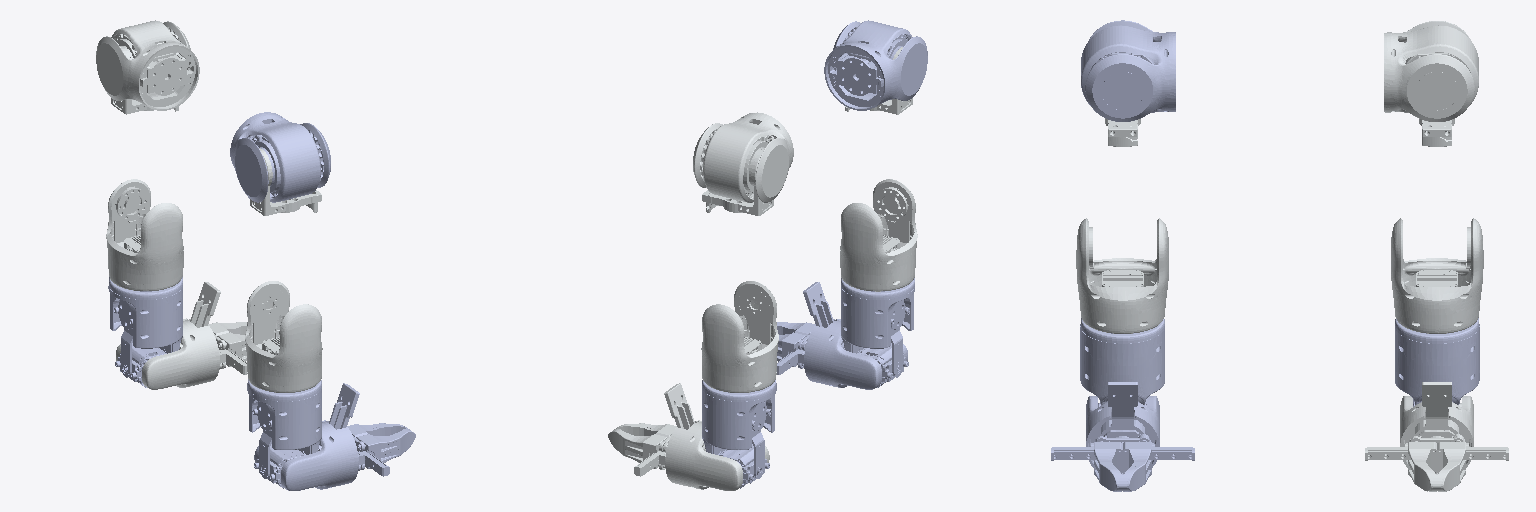
The robot description file, URDF, robot "T701-HT":
<?xml version='1.0' encoding='utf-8'?>
<robot name="T701-HT">
  <mujoco>
    <compiler meshdir="../meshes/" balanceinertia="true" discardvisual="false" />
  </mujoco>
  <link name="base_link">
    <inertial>
      <origin xyz="0.00097591 1.609e-05 0.30789235" rpy="0 0 0" />
      <mass value="12.79366946" />
      <inertia ixx="0.53730741" ixy="-1.878e-05" ixz="-0.0023791" iyy="0.51882313" iyz="-3.292e-05" izz="0.07504232" />
    </inertial>
    <visual>
      <origin xyz="0 0 0" rpy="0 0 0" />
      <geometry>
        <mesh filename="package://t701_ht_description/meshes/base_link.STL" />
      </geometry>
      <material name="">
        <color rgba="0.898039215686275 0.917647058823529 0.929411764705882 1" />
      </material>
    </visual>
    <collision>
      <origin xyz="0 0 0" rpy="0 0 0" />
      <geometry>
        <mesh filename="package://t701_ht_description/meshes/base_link.STL" />
      </geometry>
    </collision>
  </link>
  <link name="l_joint1_link">
    <inertial>
      <origin xyz="-0.00713338 0.05355602 1.817e-05" rpy="0 0 0" />
      <mass value="1.15977606" />
      <inertia ixx="0.00150353" ixy="3.119e-05" ixz="1e-07" iyy="0.00124269" iyz="-1.67e-06" izz="0.00147625" />
    </inertial>
    <visual>
      <origin xyz="0 0 0" rpy="0 0 0" />
      <geometry>
        <mesh filename="package://t701_ht_description/meshes/l_joint1_link.STL" />
      </geometry>
      <material name="">
        <color rgba="0.898039215686275 0.917647058823529 0.929411764705882 1" />
      </material>
    </visual>
    <collision>
      <origin xyz="0 0 0" rpy="0 0 0" />
      <geometry>
        <mesh filename="package://t701_ht_description/meshes/l_joint1_link.STL" />
      </geometry>
    </collision>
  </link>
  <joint name="A_l_joint1_link" type="revolute">
    <origin xyz="0 0.126 0.513" rpy="0 0 0" />
    <parent link="base_link" />
    <child link="l_joint1_link" />
    <axis xyz="0 1 0" />
    <limit lower="-3.0543" upper="1.6581" effort="70" velocity="60" />
  </joint>
  <link name="l_joint2_link">
    <inertial>
      <origin xyz="-0.01934445 -1.746e-05 -0.04177167" rpy="0 0 0" />
      <mass value="0.15403929" />
      <inertia ixx="0.00010685" ixy="1.6e-07" ixz="4.47e-05" iyy="0.00017847" iyz="-9e-08" izz="0.000127" />
    </inertial>
    <visual>
      <origin xyz="0 0 0" rpy="0 0 0" />
      <geometry>
        <mesh filename="package://t701_ht_description/meshes/l_joint2_link.STL" />
      </geometry>
      <material name="">
        <color rgba="0.898039215686275 0.917647058823529 0.929411764705882 1" />
      </material>
    </visual>
    <collision>
      <origin xyz="0 0 0" rpy="0 0 0" />
      <geometry>
        <mesh filename="package://t701_ht_description/meshes/l_joint2_link.STL" />
      </geometry>
    </collision>
  </link>
  <joint name="A_l_joint2_link" type="revolute">
    <origin xyz="0 0.059 0" rpy="0 0 0" />
    <parent link="l_joint1_link" />
    <child link="l_joint2_link" />
    <axis xyz="1 0 0" />
    <limit lower="-0.2793" upper="3.4208" effort="70" velocity="60" />
  </joint>
  <link name="l_joint3_link">
    <inertial>
      <origin xyz="-0.00114099 0.00138093 -0.09427347" rpy="0 0 0" />
      <mass value="1.59167035" />
      <inertia ixx="0.00811836" ixy="-8.9e-07" ixz="8.82e-06" iyy="0.00796295" iyz="0.00012311" izz="0.00150574" />
    </inertial>
    <visual>
      <origin xyz="0 0 0" rpy="0 0 0" />
      <geometry>
        <mesh filename="package://t701_ht_description/meshes/l_joint3_link.STL" />
      </geometry>
      <material name="">
        <color rgba="0.792156862745098 0.819607843137255 0.933333333333333 1" />
      </material>
    </visual>
    <collision>
      <origin xyz="0 0 0" rpy="0 0 0" />
      <geometry>
        <mesh filename="package://t701_ht_description/meshes/l_joint3_link.STL" />
      </geometry>
    </collision>
  </link>
  <joint name="A_l_joint3_link" type="revolute">
    <origin xyz="0.00075 0 -0.0649" rpy="0 0 0" />
    <parent link="l_joint2_link" />
    <child link="l_joint3_link" />
    <axis xyz="0 0 1" />
    <limit lower="-1.5708" upper="1.5708" effort="45" velocity="78" />
  </joint>
  <link name="l_joint4_link">
    <inertial>
      <origin xyz="-0.00065026 0.00101787 -0.05992116" rpy="0 0 0" />
      <mass value="0.59443643" />
      <inertia ixx="0.00092604" ixy="-1.84e-06" ixz="3.97e-06" iyy="0.00075485" iyz="-4.034e-05" izz="0.00065464" />
    </inertial>
    <visual>
      <origin xyz="0 0 0" rpy="0 0 0" />
      <geometry>
        <mesh filename="package://t701_ht_description/meshes/l_joint4_link.STL" />
      </geometry>
      <material name="">
        <color rgba="0.898039215686275 0.917647058823529 0.929411764705882 1" />
      </material>
    </visual>
    <collision>
      <origin xyz="0 0 0" rpy="0 0 0" />
      <geometry>
        <mesh filename="package://t701_ht_description/meshes/l_joint4_link.STL" />
      </geometry>
    </collision>
  </link>
  <joint name="A_l_joint4_link" type="revolute">
    <origin xyz="0 0 -0.1612" rpy="0 0 0" />
    <parent link="l_joint3_link" />
    <child link="l_joint4_link" />
    <axis xyz="0 1 0" />
    <limit lower="-2.2689" upper="1.0472" effort="45" velocity="78" />
  </joint>
  <link name="l_joint5_link">
    <inertial>
      <origin xyz="0.00042174 -0.00054391 -0.04890851" rpy="0 0 0" />
      <mass value="0.61984822" />
      <inertia ixx="0.00057872" ixy="-2.16e-06" ixz="4.962e-05" iyy="0.00051921" iyz="8.02e-06" izz="0.00046414" />
    </inertial>
    <visual>
      <origin xyz="0 0 0" rpy="0 0 0" />
      <geometry>
        <mesh filename="package://t701_ht_description/meshes/l_joint5_link.STL" />
      </geometry>
      <material name="">
        <color rgba="0.792156862745098 0.819607843137255 0.933333333333333 1" />
      </material>
    </visual>
    <collision>
      <origin xyz="0 0 0" rpy="0 0 0" />
      <geometry>
        <mesh filename="package://t701_ht_description/meshes/l_joint5_link.STL" />
      </geometry>
    </collision>
  </link>
  <joint name="A_l_joint5_link" type="revolute">
    <origin xyz="0 0 -0.091909" rpy="0 0 0" />
    <parent link="l_joint4_link" />
    <child link="l_joint5_link" />
    <axis xyz="0 0 1" />
    <limit lower="-1.3614" upper="1.3614" effort="21" velocity="75" />
  </joint>
  <link name="l_joint6_link">
    <inertial>
      <origin xyz="3.877e-05 0.0021645 -0.00011367" rpy="0 0 0" />
      <mass value="0.29523734" />
      <inertia ixx="0.00011836" ixy="1e-07" ixz="4.4e-07" iyy="0.00012024" iyz="-1.6e-07" izz="0.00014489" />
    </inertial>
    <visual>
      <origin xyz="0 0 0" rpy="0 0 0" />
      <geometry>
        <mesh filename="package://t701_ht_description/meshes/l_joint6_link.STL" />
      </geometry>
      <material name="">
        <color rgba="0.792156862745098 0.819607843137255 0.933333333333333 1" />
      </material>
    </visual>
    <collision>
      <origin xyz="0 0 0" rpy="0 0 0" />
      <geometry>
        <mesh filename="package://t701_ht_description/meshes/l_joint6_link.STL" />
      </geometry>
    </collision>
  </link>
  <joint name="A_l_joint6_link" type="revolute">
    <origin xyz="0 0 -0.1276" rpy="0 0 0" />
    <parent link="l_joint5_link" />
    <child link="l_joint6_link" />
    <axis xyz="1 0 0" />
    <limit lower="-0.7854" upper="0.7854" effort="21" velocity="75" />
  </joint>
  <link name="l_joint7_link">
    <inertial>
      <origin xyz="0.08046172 0.00025452 0.00134164" rpy="0 0 0" />
      <mass value="0.67662928" />
      <inertia ixx="0.00061505" ixy="1.692e-05" ixz="-1.013e-05" iyy="0.00120721" iyz="-1.04e-06" izz="0.0014148" />
    </inertial>
    <visual>
      <origin xyz="0 0 0" rpy="0 0 0" />
      <geometry>
        <mesh filename="package://t701_ht_description/meshes/l_joint7_link.STL" />
      </geometry>
      <material name="">
        <color rgba="0.898039215686275 0.917647058823529 0.929411764705882 1" />
      </material>
    </visual>
    <collision>
      <origin xyz="0 0 0" rpy="0 0 0" />
      <geometry>
        <mesh filename="package://t701_ht_description/meshes/l_joint7_link.STL" />
      </geometry>
    </collision>
  </link>
  <joint name="A_l_joint7_link" type="revolute">
    <origin xyz="0 0 0" rpy="0 0 0" />
    <parent link="l_joint6_link" />
    <child link="l_joint7_link" />
    <axis xyz="0 1 0" />
    <limit lower="0" upper="3.14" effort="10" velocity="160" />
  </joint>
  <link name="r_joint1_link">
    <inertial>
      <origin xyz="-0.00712821 -0.05359231 6.003e-05" rpy="0 0 0" />
      <mass value="1.15977606" />
      <inertia ixx="0.00150398" ixy="-3.262e-05" ixz="-6e-08" iyy="0.00124278" iyz="-1.18e-06" izz="0.00147679" />
    </inertial>
    <visual>
      <origin xyz="0 0 0" rpy="0 0 0" />
      <geometry>
        <mesh filename="package://t701_ht_description/meshes/r_joint1_link.STL" />
      </geometry>
      <material name="">
        <color rgba="0.792156862745098 0.819607843137255 0.933333333333333 1" />
      </material>
    </visual>
    <collision>
      <origin xyz="0 0 0" rpy="0 0 0" />
      <geometry>
        <mesh filename="package://t701_ht_description/meshes/r_joint1_link.STL" />
      </geometry>
    </collision>
  </link>
  <joint name="A_r_joint1_link" type="revolute">
    <origin xyz="0 -0.126 0.513" rpy="0 0 0" />
    <parent link="base_link" />
    <child link="r_joint1_link" />
    <axis xyz="0 1 0" />
    <limit lower="-3.0543" upper="1.6581" effort="70" velocity="60" />
  </joint>
  <link name="r_joint2_link">
    <inertial>
      <origin xyz="-0.01934445 -1.746e-05 -0.04177167" rpy="0 0 0" />
      <mass value="0.15403929" />
      <inertia ixx="0.00010685" ixy="1.6e-07" ixz="4.47e-05" iyy="0.00017847" iyz="-9e-08" izz="0.000127" />
    </inertial>
    <visual>
      <origin xyz="0 0 0" rpy="0 0 0" />
      <geometry>
        <mesh filename="package://t701_ht_description/meshes/r_joint2_link.STL" />
      </geometry>
      <material name="">
        <color rgba="0.898039215686275 0.917647058823529 0.929411764705882 1" />
      </material>
    </visual>
    <collision>
      <origin xyz="0 0 0" rpy="0 0 0" />
      <geometry>
        <mesh filename="package://t701_ht_description/meshes/r_joint2_link.STL" />
      </geometry>
    </collision>
  </link>
  <joint name="A_r_joint2_link" type="revolute">
    <origin xyz="0 -0.059 0" rpy="0 0 0" />
    <parent link="r_joint1_link" />
    <child link="r_joint2_link" />
    <axis xyz="1 0 0" />
    <limit lower="-3.4208" upper="0.2793" effort="70" velocity="60" />
  </joint>
  <link name="r_joint3_link">
    <inertial>
      <origin xyz="-0.00138122 -0.00129708 -0.09427347" rpy="0 0 0" />
      <mass value="1.59167035" />
      <inertia ixx="0.00811871" ixy="4.33e-06" ixz="4.92e-06" iyy="0.00796198" iyz="-0.0001316" izz="0.00150514" />
    </inertial>
    <visual>
      <origin xyz="0 0 0" rpy="0 0 0" />
      <geometry>
        <mesh filename="package://t701_ht_description/meshes/r_joint3_link.STL" />
      </geometry>
      <material name="">
        <color rgba="0.898039215686275 0.917647058823529 0.929411764705882 1" />
      </material>
    </visual>
    <collision>
      <origin xyz="0 0 0" rpy="0 0 0" />
      <geometry>
        <mesh filename="package://t701_ht_description/meshes/r_joint3_link.STL" />
      </geometry>
    </collision>
  </link>
  <joint name="A_r_joint3_link" type="revolute">
    <origin xyz="0.00075 0 -0.0649" rpy="0 0 0" />
    <parent link="r_joint2_link" />
    <child link="r_joint3_link" />
    <axis xyz="0 0 1" />
    <limit lower="-1.5708" upper="1.5708" effort="45" velocity="78" />
  </joint>
  <link name="r_joint4_link">
    <inertial>
      <origin xyz="-0.00064978 -0.00121462 -0.0599215" rpy="0 0 0" />
      <mass value="0.5938752" />
      <inertia ixx="0.00092486" ixy="-9.3e-07" ixz="3.97e-06" iyy="0.00075484" iyz="3.934e-05" izz="0.00065341" />
    </inertial>
    <visual>
      <origin xyz="0 0 0" rpy="0 0 0" />
      <geometry>
        <mesh filename="package://t701_ht_description/meshes/r_joint4_link.STL" />
      </geometry>
      <material name="">
        <color rgba="0.898039215686275 0.917647058823529 0.929411764705882 1" />
      </material>
    </visual>
    <collision>
      <origin xyz="0 0 0" rpy="0 0 0" />
      <geometry>
        <mesh filename="package://t701_ht_description/meshes/r_joint4_link.STL" />
      </geometry>
    </collision>
  </link>
  <joint name="A_r_joint4_link" type="revolute">
    <origin xyz="0 0 -0.1612" rpy="0 0 0" />
    <parent link="r_joint3_link" />
    <child link="r_joint4_link" />
    <axis xyz="0 1 0" />
    <limit lower="-2.2689" upper="1.0472" effort="45" velocity="78" />
  </joint>
  <link name="r_joint5_link">
    <inertial>
      <origin xyz="0.00038173 -0.00054314 -0.04902034" rpy="0 0 0" />
      <mass value="0.62073038" />
      <inertia ixx="0.00058425" ixy="-2.14e-06" ixz="4.767e-05" iyy="0.00052539" iyz="8.06e-06" izz="0.00046488" />
    </inertial>
    <visual>
      <origin xyz="0 0 0" rpy="0 0 0" />
      <geometry>
        <mesh filename="package://t701_ht_description/meshes/r_joint5_link.STL" />
      </geometry>
      <material name="">
        <color rgba="0.792156862745098 0.819607843137255 0.933333333333333 1" />
      </material>
    </visual>
    <collision>
      <origin xyz="0 0 0" rpy="0 0 0" />
      <geometry>
        <mesh filename="package://t701_ht_description/meshes/r_joint5_link.STL" />
      </geometry>
    </collision>
  </link>
  <joint name="A_r_joint5_link" type="revolute">
    <origin xyz="0 0 -0.091914" rpy="0 0 0" />
    <parent link="r_joint4_link" />
    <child link="r_joint5_link" />
    <axis xyz="0 0 1" />
    <limit lower="-1.3614" upper="1.3614" effort="21" velocity="75" />
  </joint>
  <link name="r_joint6_link">
    <inertial>
      <origin xyz="0.00019167 -0.0021645 -0.00011638" rpy="0 0 0" />
      <mass value="0.29523734" />
      <inertia ixx="0.00011836" ixy="-5e-08" ixz="-5.7e-07" iyy="0.00012023" iyz="1.4e-07" izz="0.00014488" />
    </inertial>
    <visual>
      <origin xyz="0 0 0" rpy="0 0 0" />
      <geometry>
        <mesh filename="package://t701_ht_description/meshes/r_joint6_link.STL" />
      </geometry>
      <material name="">
        <color rgba="0.792156862745098 0.819607843137255 0.933333333333333 1" />
      </material>
    </visual>
    <collision>
      <origin xyz="0 0 0" rpy="0 0 0" />
      <geometry>
        <mesh filename="package://t701_ht_description/meshes/r_joint6_link.STL" />
      </geometry>
    </collision>
  </link>
  <joint name="A_r_joint6_link" type="revolute">
    <origin xyz="0 0 -0.1276" rpy="0 0 0" />
    <parent link="r_joint5_link" />
    <child link="r_joint6_link" />
    <axis xyz="1 0 0" />
    <limit lower="-0.7854" upper="0.7854" effort="21" velocity="75" />
  </joint>
  <link name="r_joint7_link">
    <inertial>
      <origin xyz="0.080543 -0.0003097 0.00141262" rpy="0 0 0" />
      <mass value="0.67558257" />
      <inertia ixx="0.0006136" ixy="-1.886e-05" ixz="-9.61e-06" iyy="0.00120411" iyz="-1.57e-06" izz="0.00141065" />
    </inertial>
    <visual>
      <origin xyz="0 0 0" rpy="0 0 0" />
      <geometry>
        <mesh filename="package://t701_ht_description/meshes/r_joint7_link.STL" />
      </geometry>
      <material name="">
        <color rgba="0.792156862745098 0.819607843137255 0.933333333333333 1" />
      </material>
    </visual>
    <collision>
      <origin xyz="0 0 0" rpy="0 0 0" />
      <geometry>
        <mesh filename="package://t701_ht_description/meshes/r_joint7_link.STL" />
      </geometry>
    </collision>
  </link>
  <joint name="A_r_joint7_link" type="revolute">
    <origin xyz="0 0 0" rpy="0 0 0" />
    <parent link="r_joint6_link" />
    <child link="r_joint7_link" />
    <axis xyz="0 1 0" />
    <limit lower="0" upper="3.14" effort="10" velocity="160" />
  </joint>
</robot>

--- Render facts (derived) ---
3 views of the same robot in one strip: view 1: azimuth 30°, elevation 25°; view 2: azimuth 150°, elevation 25°; view 3: azimuth 270°, elevation 25° (orthographic).
Model T701-HT with 15 links and 14 joints (14 revolute), rooted at base_link, posed all joints at 0.
Visible links, largest first — view 1: l_joint1_link, l_joint4_link, r_joint4_link, r_joint1_link, r_joint7_link, l_joint7_link, l_joint5_link, r_joint5_link, r_joint2_link, r_joint6_link, l_joint6_link; view 2: r_joint1_link, r_joint4_link, l_joint4_link, l_joint1_link, l_joint7_link, r_joint7_link, l_joint5_link, r_joint5_link, l_joint2_link, l_joint6_link, r_joint6_link; view 3: r_joint1_link, l_joint1_link, r_joint7_link, l_joint7_link, r_joint4_link, l_joint4_link, r_joint5_link, l_joint5_link, r_joint2_link, l_joint2_link.
Boxes of the visible links, x1,y1,x2,y2 form: l_joint1_link: [96, 20, 199, 110]; l_joint4_link: [106, 179, 183, 290]; r_joint4_link: [245, 281, 322, 392]; r_joint1_link: [230, 112, 330, 202]; r_joint7_link: [254, 383, 415, 490]; l_joint7_link: [116, 282, 246, 389]; l_joint5_link: [108, 277, 182, 377]; r_joint5_link: [247, 379, 321, 478]; r_joint2_link: [250, 148, 321, 215]; r_joint6_link: [254, 444, 304, 488]; l_joint6_link: [115, 343, 166, 387]; r_joint1_link: [824, 20, 927, 110]; r_joint4_link: [840, 179, 917, 291]; l_joint4_link: [701, 281, 778, 392]; l_joint1_link: [693, 112, 793, 202]; l_joint7_link: [608, 383, 769, 490]; r_joint7_link: [777, 282, 907, 389]; l_joint5_link: [702, 380, 776, 478]; r_joint5_link: [841, 278, 914, 377]; l_joint2_link: [702, 148, 773, 215]; l_joint6_link: [719, 444, 769, 488]; r_joint6_link: [857, 343, 908, 387]; r_joint1_link: [1081, 20, 1175, 121]; l_joint1_link: [1384, 21, 1478, 121]; r_joint7_link: [1051, 382, 1194, 491]; l_joint7_link: [1365, 382, 1508, 491]; r_joint4_link: [1076, 218, 1168, 333]; l_joint4_link: [1391, 218, 1483, 333]; r_joint5_link: [1080, 318, 1164, 404]; l_joint5_link: [1395, 318, 1479, 404]; r_joint2_link: [1105, 118, 1140, 146]; l_joint2_link: [1419, 119, 1454, 146].
Size in the robot's own frame: 0.2536 by 0.539 by 0.5384 metres.
12 mesh visuals loaded from 15 distinct referenced files (12 binary STL); not drawn: 3 (reference not matched to a file when rendering).
